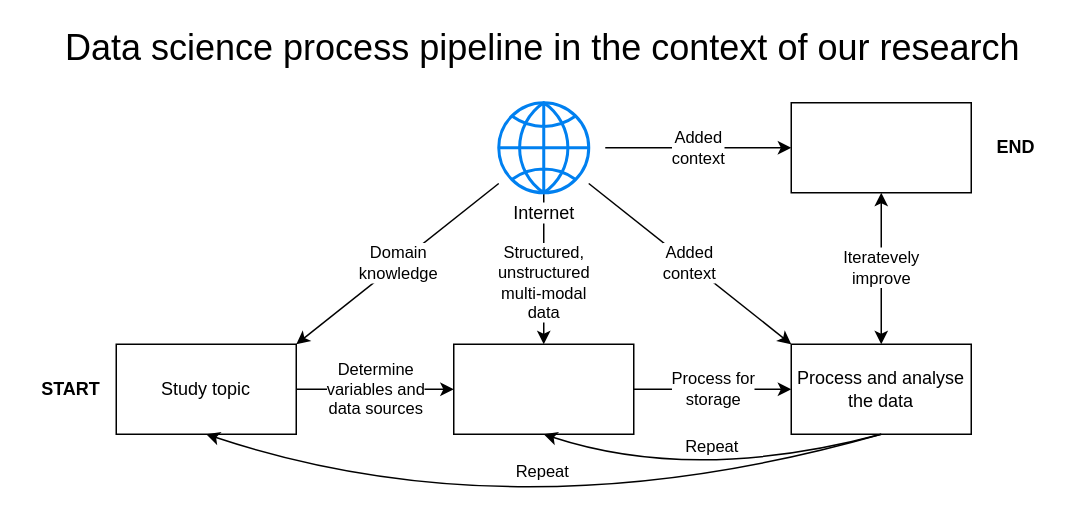
This 1086x513 diagram has some shape labels left out. Each missing label, with the centre of its shape:
Acquire the data with web scraping and API access: (543,388)
Interpret the results and create visualizations: (880,147)
